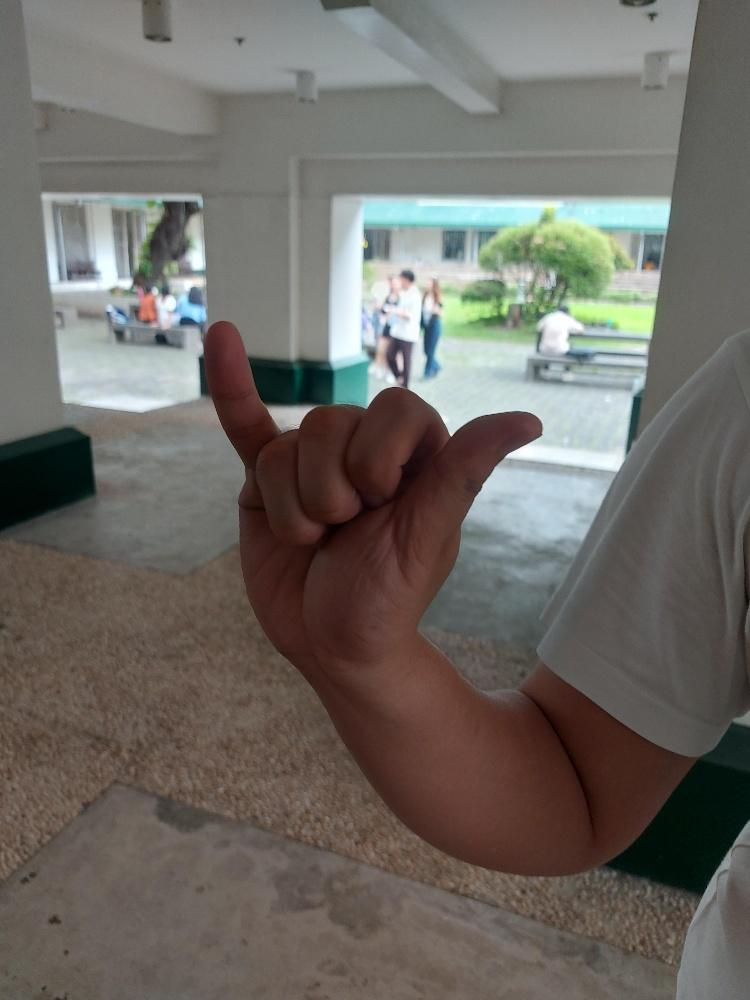y: (198, 317, 544, 665)
